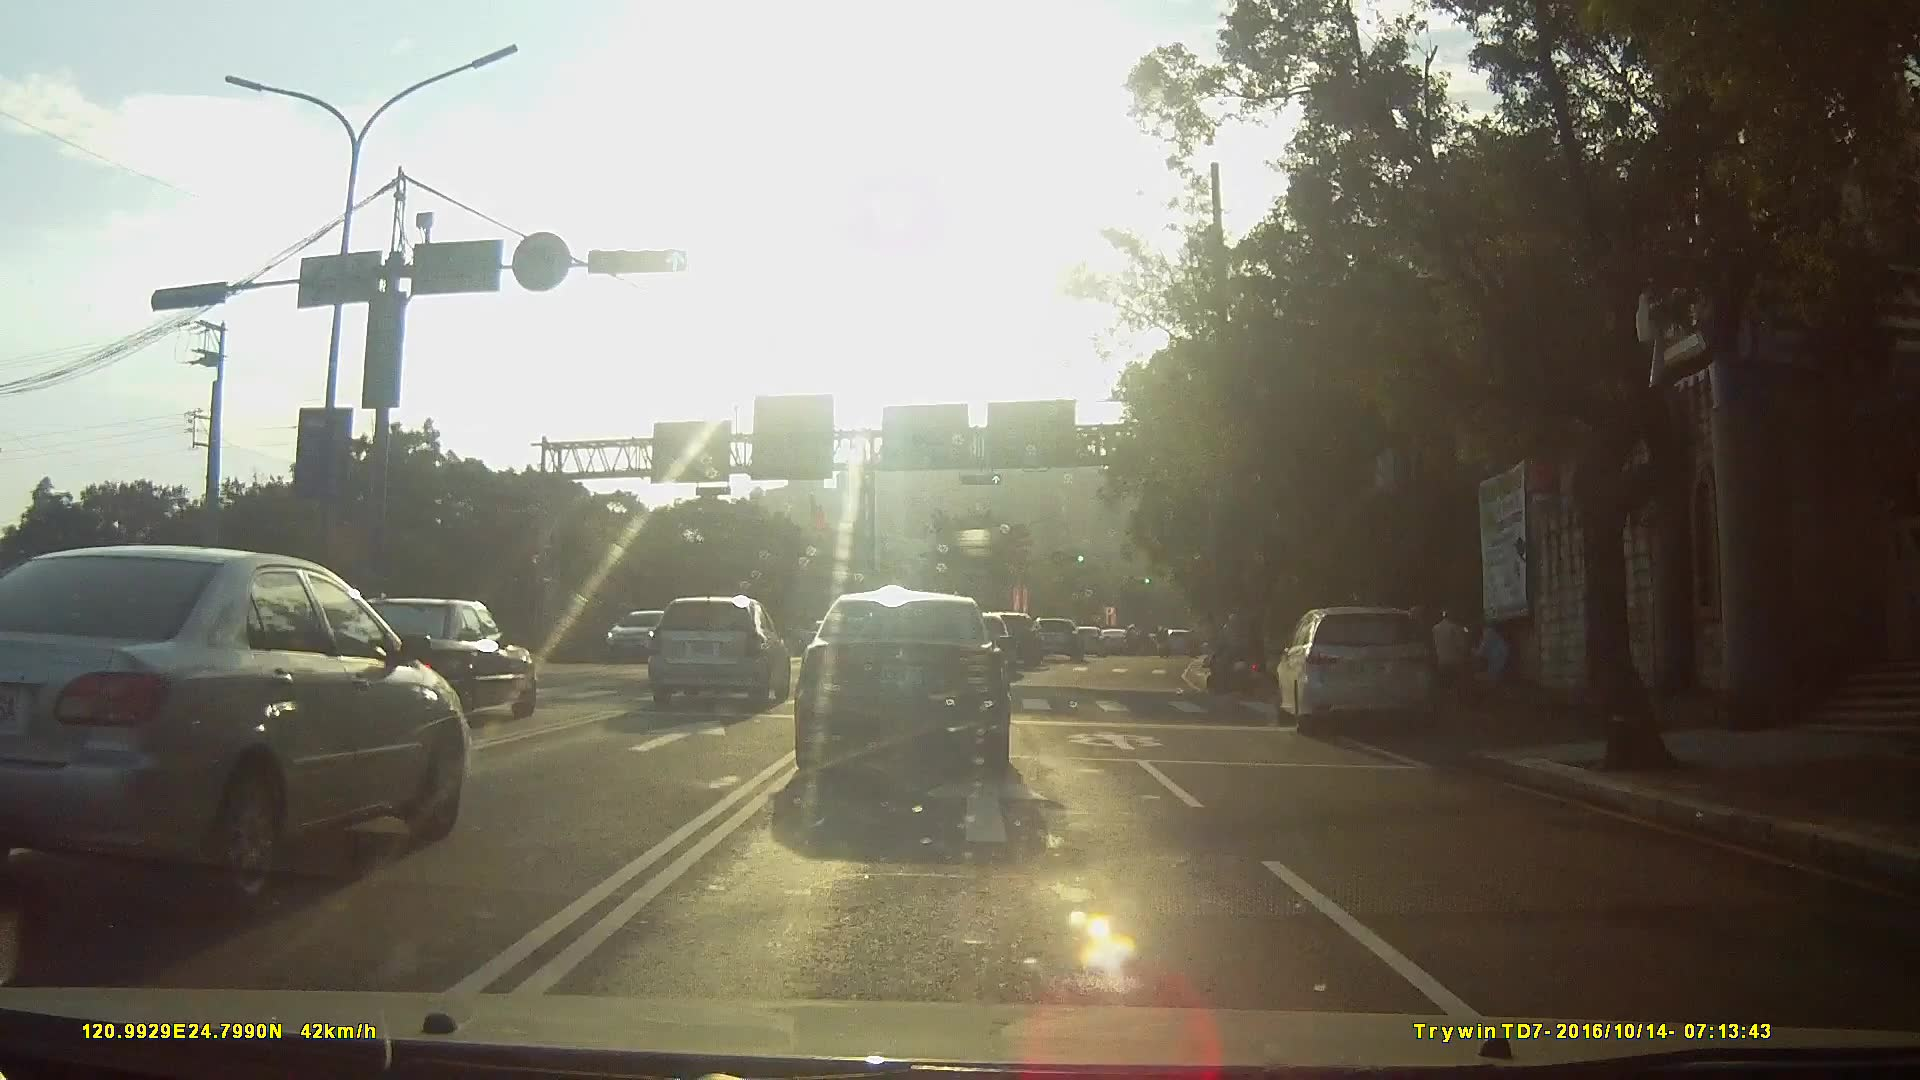pedestrian: (1436, 606, 1475, 724), (1477, 620, 1514, 690)
rider: (1210, 607, 1268, 692)
vehicle: (0, 548, 476, 915), (790, 591, 1033, 799), (328, 596, 547, 729), (1273, 600, 1456, 740), (649, 596, 796, 717), (602, 605, 683, 665), (989, 609, 1051, 667), (1034, 616, 1091, 662), (1073, 624, 1112, 656), (1105, 626, 1137, 654)
